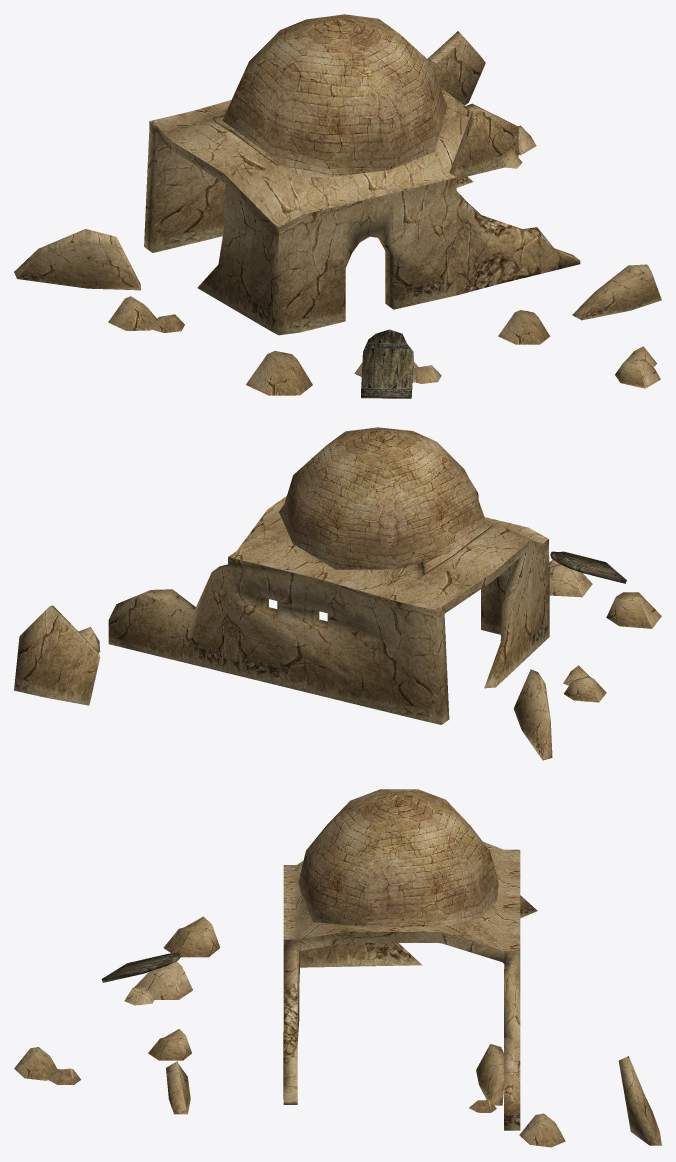
Rendered from w_cd_buddhist01_01.glb.
3 views of the same model, one above another, from view 1: azimuth 30°, elevation 25°; view 2: azimuth 150°, elevation 25°; view 3: azimuth 270°, elevation 25° (orthographic). The views are drawn at different scales.
Visible parts, largest first — view 1: w_cd_Buddhist01_02, w_cd_Buddhist01_03, w_cd_Buddhist01_01, w_cd_Buddhist01_04; view 2: w_cd_Buddhist01_02, w_cd_Buddhist01_03, w_cd_Buddhist01_01, w_cd_Buddhist01_04; view 3: w_cd_Buddhist01_03, w_cd_Buddhist01_02, w_cd_Buddhist01_01, w_cd_Buddhist01_04.
Boxes of the visible parts, x1,y1,x2,y2 form: w_cd_Buddhist01_02: (14, 31, 661, 395); w_cd_Buddhist01_03: (222, 14, 447, 177); w_cd_Buddhist01_01: (150, 88, 471, 227); w_cd_Buddhist01_04: (361, 329, 413, 398); w_cd_Buddhist01_02: (14, 480, 661, 760); w_cd_Buddhist01_03: (279, 427, 492, 569); w_cd_Buddhist01_01: (228, 496, 548, 610); w_cd_Buddhist01_04: (550, 551, 626, 583); w_cd_Buddhist01_03: (298, 789, 498, 927); w_cd_Buddhist01_02: (14, 895, 661, 1147); w_cd_Buddhist01_01: (283, 842, 520, 951); w_cd_Buddhist01_04: (101, 952, 504, 982).
Size of the model in its own units: 30.88 by 13.86 by 35.13.
Materials: 4 (4 with a texture image).
